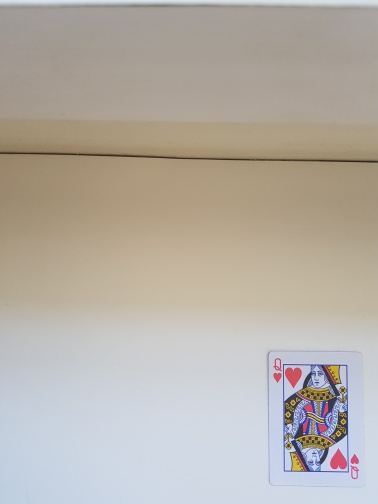queen: (266, 349, 367, 488)
